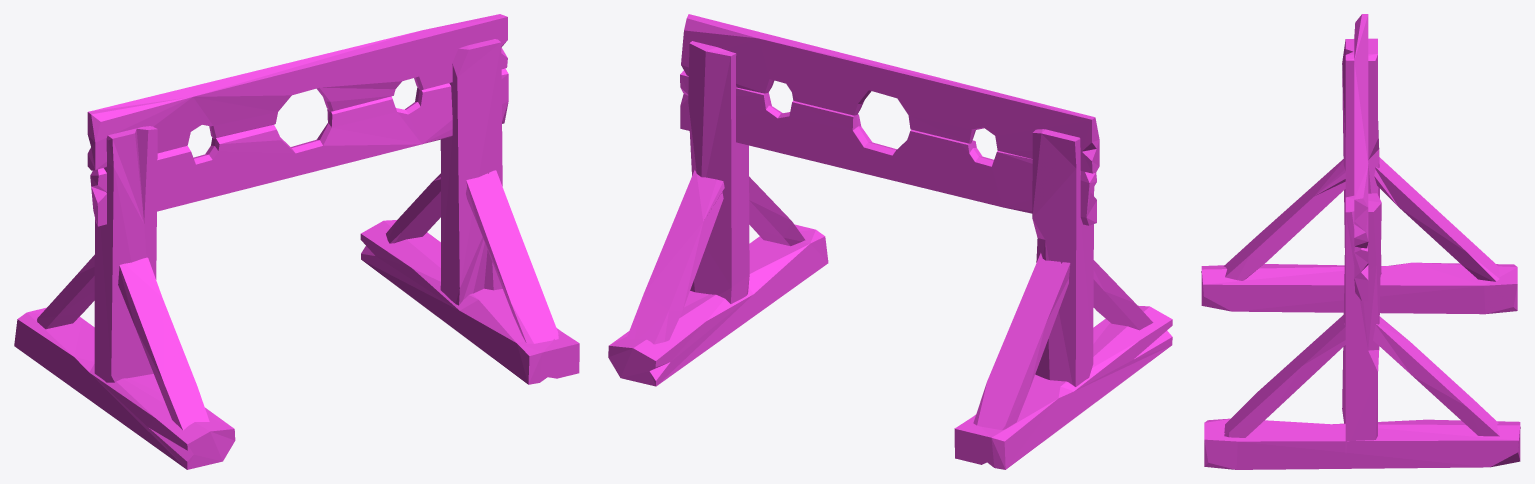
Rendered from SM_Pillory_Fantasy.fbx.
3 renders of one model, left to right at view 1: azimuth 30°, elevation 25°; view 2: azimuth 150°, elevation 25°; view 3: azimuth 270°, elevation 25°, orthographic. The views are drawn at different scales.
Parts seen in each view (by area): view 1: SM_Pillory_Fantasy; view 2: SM_Pillory_Fantasy; view 3: SM_Pillory_Fantasy.
Boxes of the visible parts, box(x1,y1,x2,y2) form: SM_Pillory_Fantasy: box(14, 14, 579, 469); SM_Pillory_Fantasy: box(608, 14, 1172, 469); SM_Pillory_Fantasy: box(1201, 14, 1520, 469).
Size of the model in its own units: 1.82 by 1.25 by 1.32.
